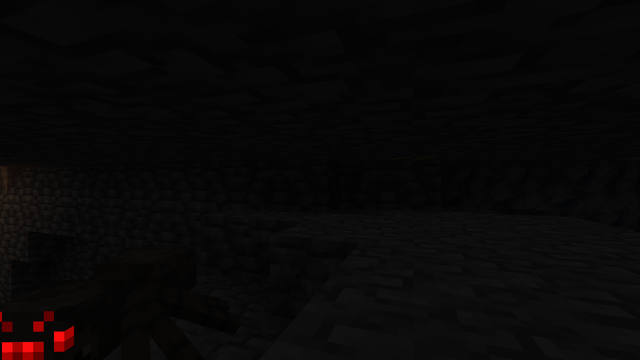araignees: (11, 238, 229, 357)
